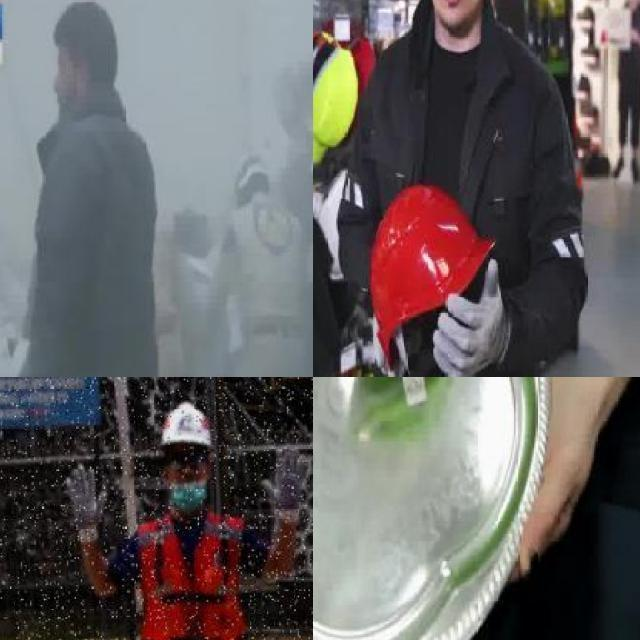apron: (431, 257, 505, 377), (53, 459, 109, 532), (265, 443, 313, 522)
